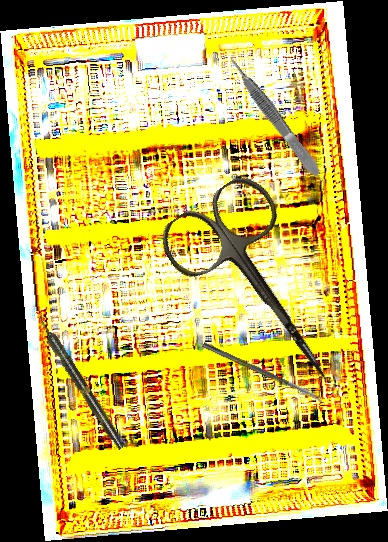Handpiece: (33, 313, 128, 452)
Iris Scissors: (152, 167, 374, 415)
Surgical Spoon: (201, 342, 326, 404)
Tissue Forceps: (225, 53, 324, 180)
